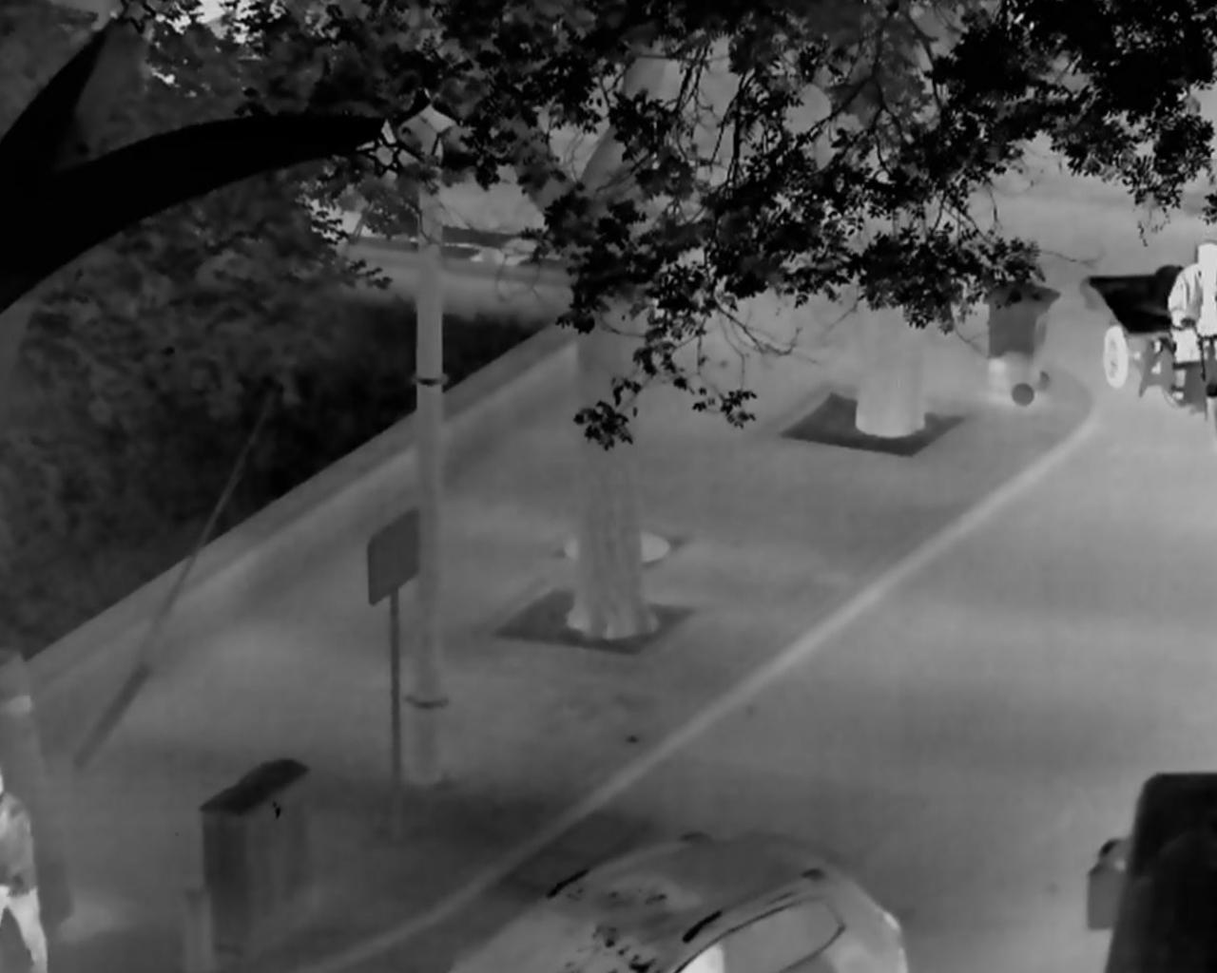person: (1162, 238, 1217, 400)
